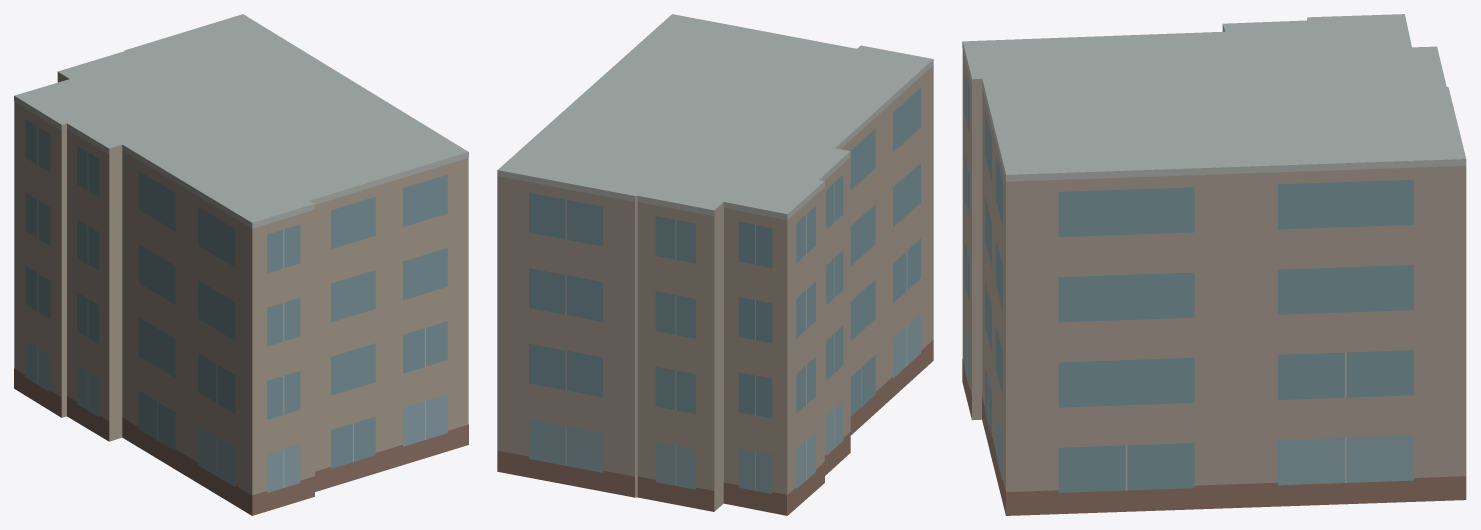
The model's file is survey-upis-32627723.glb.
The picture shows the model from 3 angles, left to right: view 1: azimuth 30°, elevation 25°; view 2: azimuth 150°, elevation 25°; view 3: azimuth 270°, elevation 25°; orthographic projection. The views are drawn at different scales.
Visible parts, largest first — view 1: survey-upis-32627723.tmp; view 2: survey-upis-32627723.tmp; view 3: survey-upis-32627723.tmp.
Boxes of the visible parts, x1=… form: survey-upis-32627723.tmp: x1=14, y1=14, x2=468, y2=515; survey-upis-32627723.tmp: x1=497, y1=14, x2=933, y2=515; survey-upis-32627723.tmp: x1=962, y1=14, x2=1466, y2=515.
Bounding box in the file's own units: 12.35 × 12.2 × 16.34.
